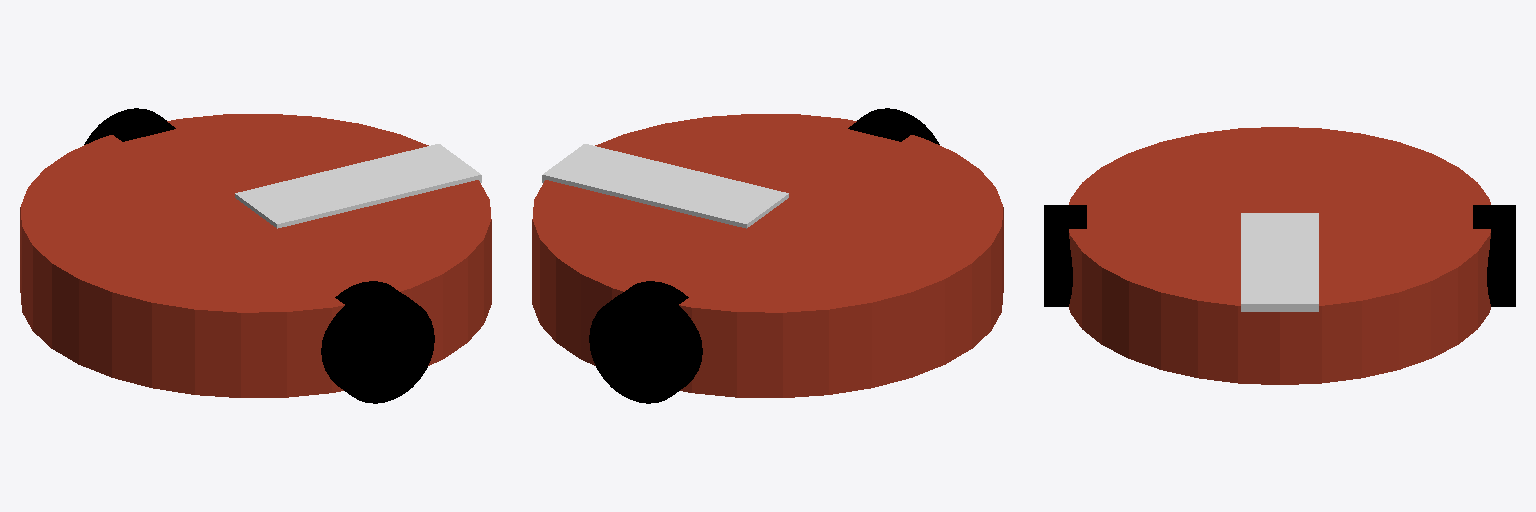
The robot description file, URDF, robot "simple_robot":
<?xml version="1.0"?>
<robot name="simple_robot">

  <link name="base_link">
    <visual name="base">
      <geometry>
        <cylinder length="0.1" radius="0.25"/>
      </geometry>
      <origin rpy="0 0 0" xyz="0 0 0.06"/>
      <material name="red">
        <color rgba="0.71 0.28 0.19 1"/>
      </material>
    </visual>

        <!-- Right wheel -->
    <visual name="right_wheel">
      <geometry>
        <cylinder length="0.05" radius="0.06"/>
      </geometry>
      <origin rpy="1.57075 0 0" xyz="0 0.25 0.06"/>
      <material name="black">
        <color rgba="0.0 0.0 0.0 1"/>
      </material>
    </visual>

    <!-- Left wheel -->
    <visual>
      <geometry>
        <cylinder length="0.05" radius="0.06"/>
      </geometry>
      <origin rpy="1.57075 0 0" xyz="0 -0.25 0.06"/>
      <material name="black">
        <color rgba="0.0 0.0 0.0 1"/>
      </material>
    </visual>

    <!-- Stripe -->
    <visual>
      <geometry>
        <box size="0.25 0.09 0.01"/>
      </geometry>
      <origin rpy="0 0 0" xyz="0.125 0 0.11"/>
      <material name="white">
              <color rgba="0.9 0.9 0.9 1"/>
      </material>
    </visual>
  </link>

</robot>

--- Facts derived from the render (not from the file) ---
Views: 3 orthographic renders of the robot side by side, from view 1: azimuth 30°, elevation 25°; view 2: azimuth 150°, elevation 25°; view 3: azimuth 270°, elevation 25°.
Model simple_robot with 1 links and 0 joints (none), rooted at base_link, posed every joint at zero.
Visible links, largest first — view 1: base_link; view 2: base_link; view 3: base_link.
Link boxes in pixels (<box>): base_link: <box>20,108,491,403</box>; base_link: <box>532,108,1003,403</box>; base_link: <box>1044,127,1515,384</box>.
Size in the robot's own frame: 0.5 by 0.55 by 0.12 metres.
Geometry: primitives only (box / cylinder / sphere), no mesh files.